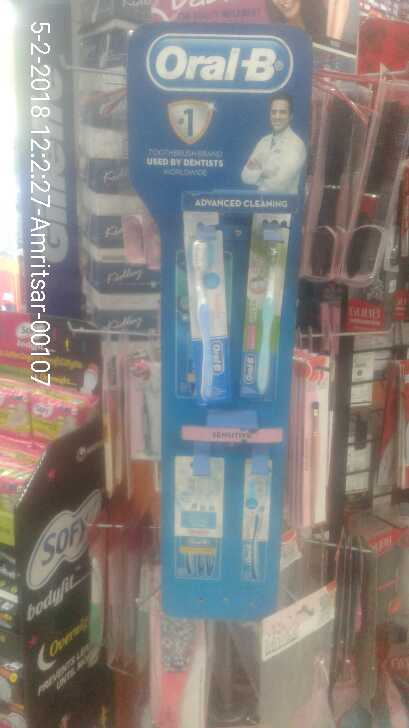oralb: (189, 229, 233, 405), (245, 230, 284, 401)
